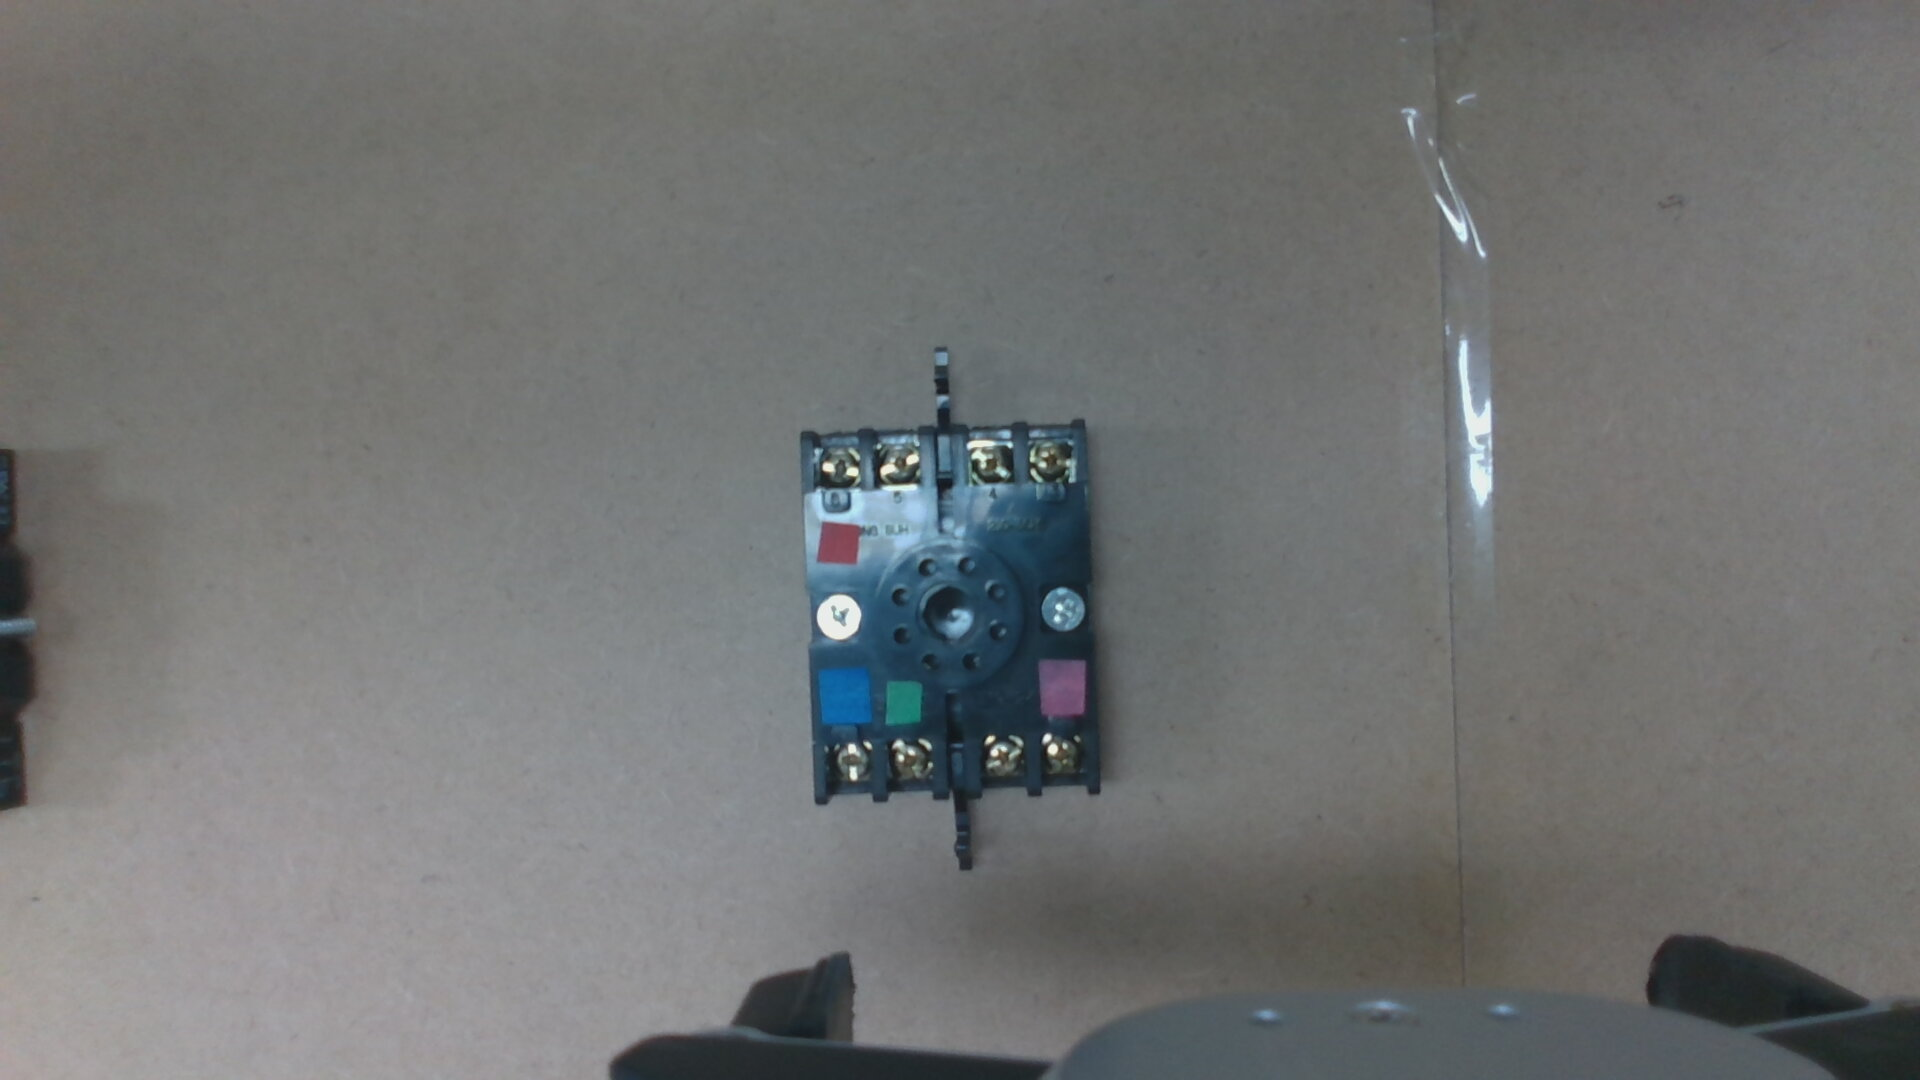timer 2: (1042, 735, 1083, 773)
timer 6: (815, 446, 858, 483)
timer 7: (829, 744, 870, 785)
timer 8: (887, 738, 931, 783)
